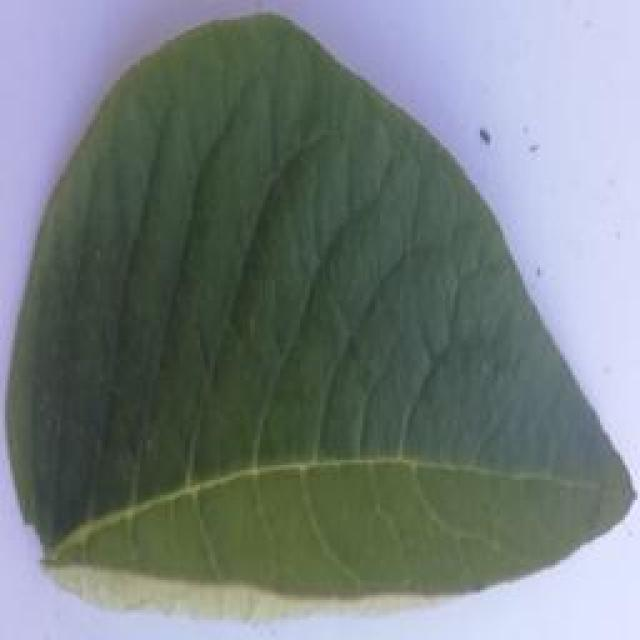Potato_Healthy: (8, 10, 624, 616)
